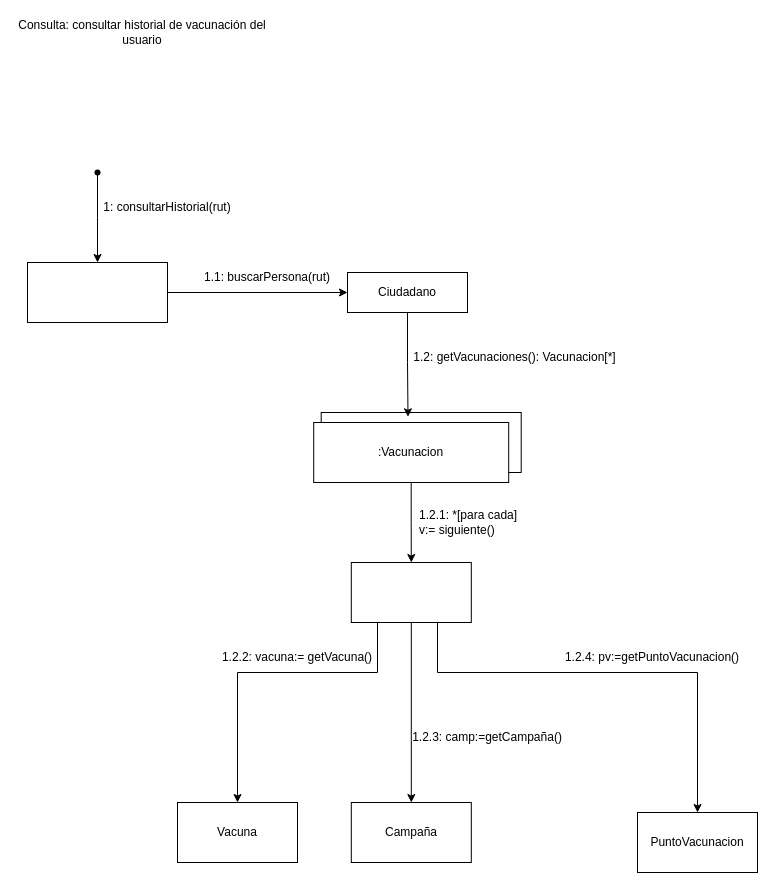
This 775x890 diagram has some shape labels left out. The centre of each missing label's shape, as x and y in pixels:
"SistemaVacunacion <<Controller>>" belongs at point (97, 292).
"v: Vacunacion" belongs at point (410, 592).
